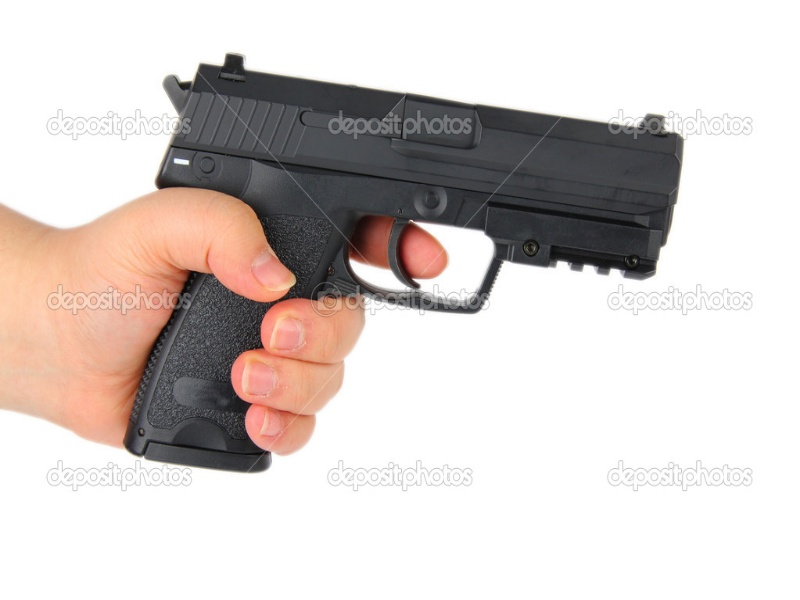gun: (129, 31, 688, 491)
